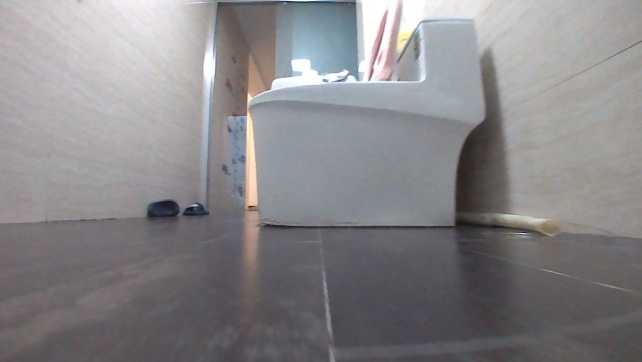slipper: (146, 195, 179, 219), (181, 200, 210, 216)
toilet: (248, 14, 488, 233)
